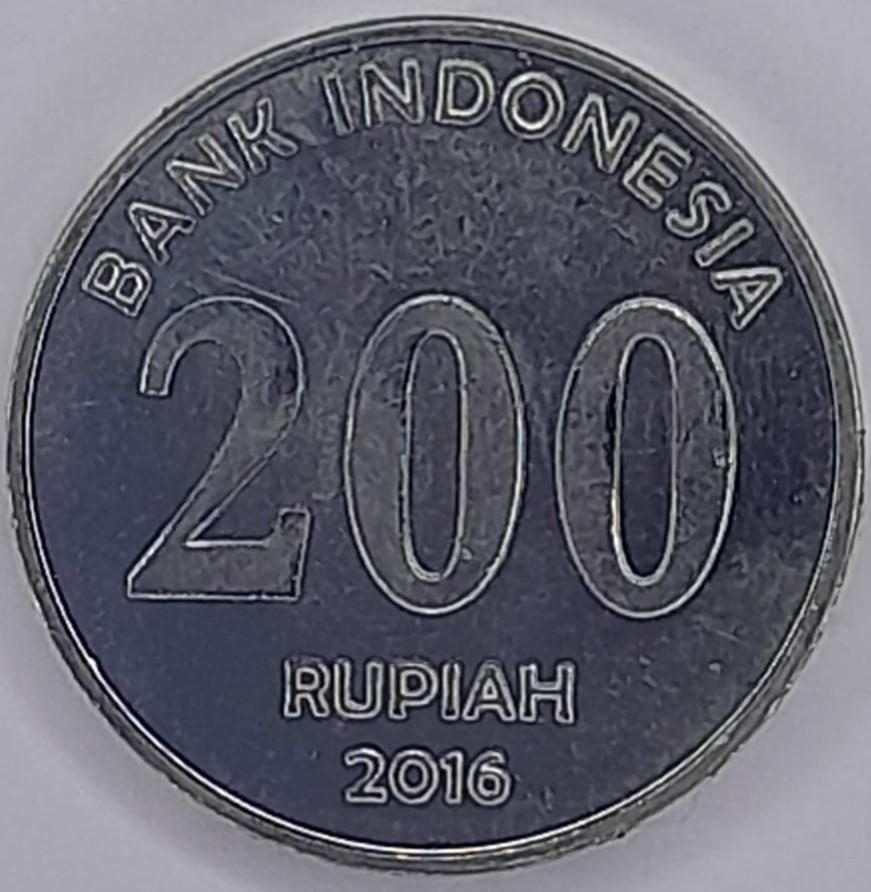coin_200_e2016: (0, 16, 871, 892)
